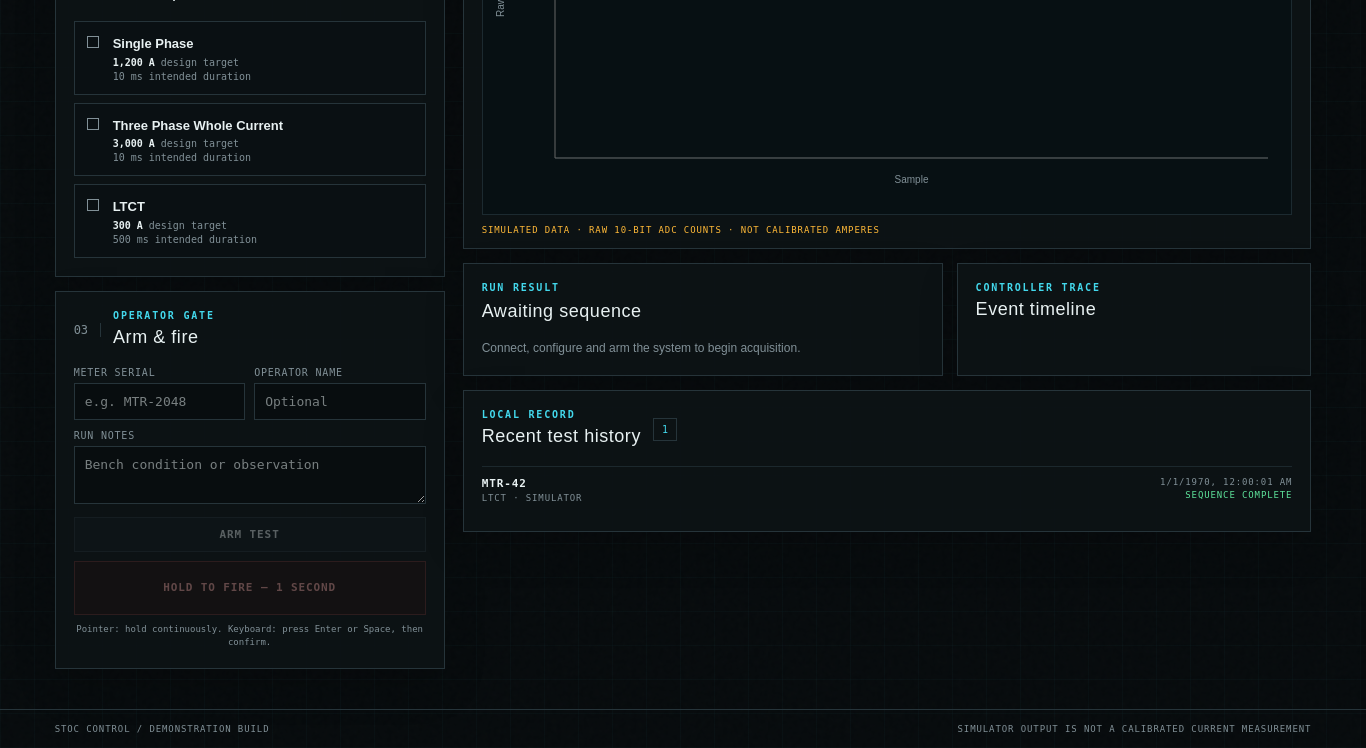
App › reopens a persisted run from history for export or printing
(page scrolled)
Expected: the heading "Awaiting sequence" is shown, left=482, top=301, right=642, bottom=321
Click the button with aria-label "open run mtr-42" at (504, 484), box left=482, top=467, right=1292, bottom=513
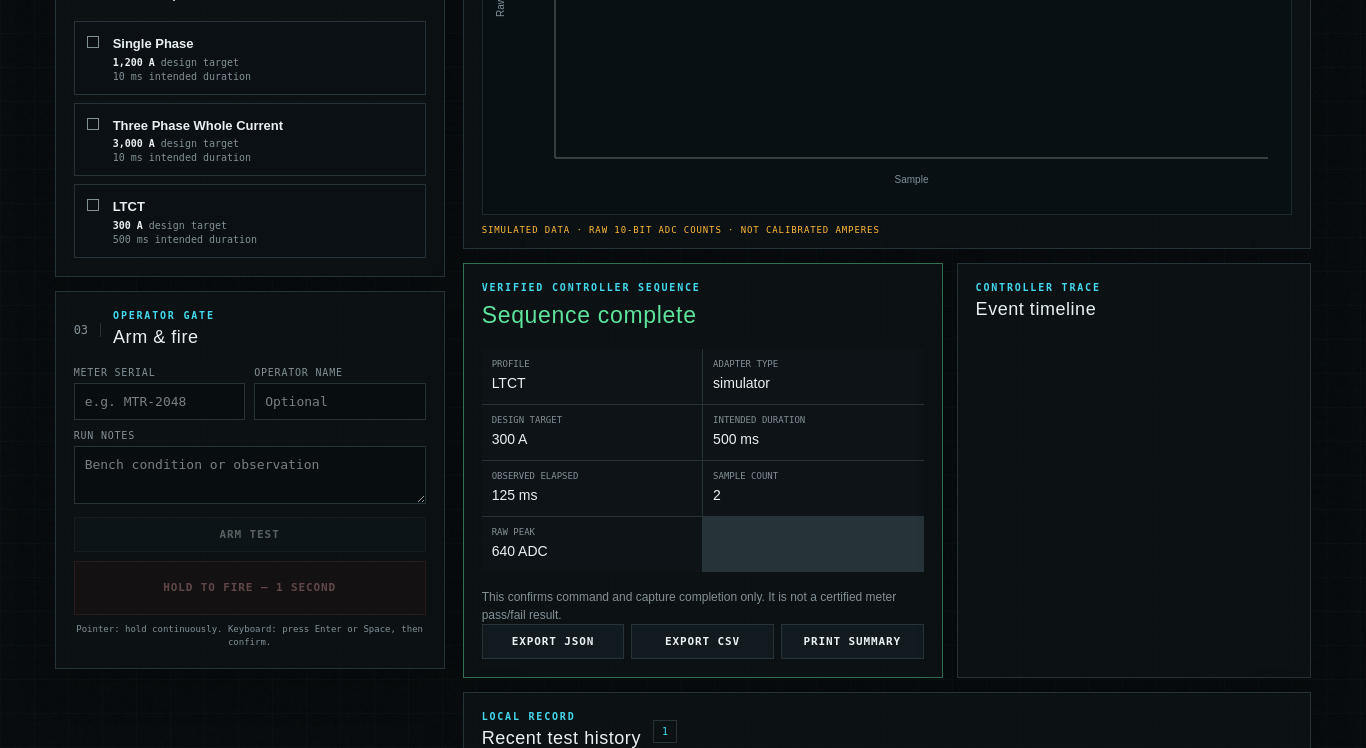
Result: the heading "Sequence complete" is shown at left=482, top=302, right=697, bottom=328
Result: the text "125 ms" is shown at left=492, top=486, right=538, bottom=502
Result: the button "Export JSON" is enabled at left=482, top=624, right=624, bottom=658
